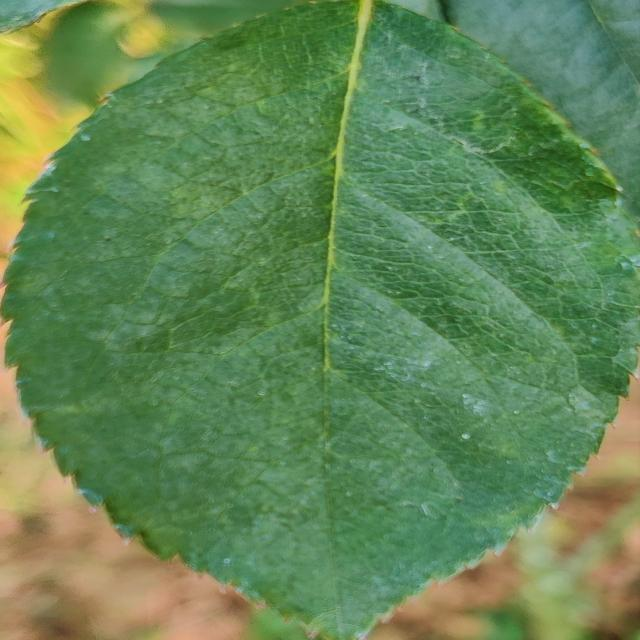Rose: (1, 0, 638, 637)
